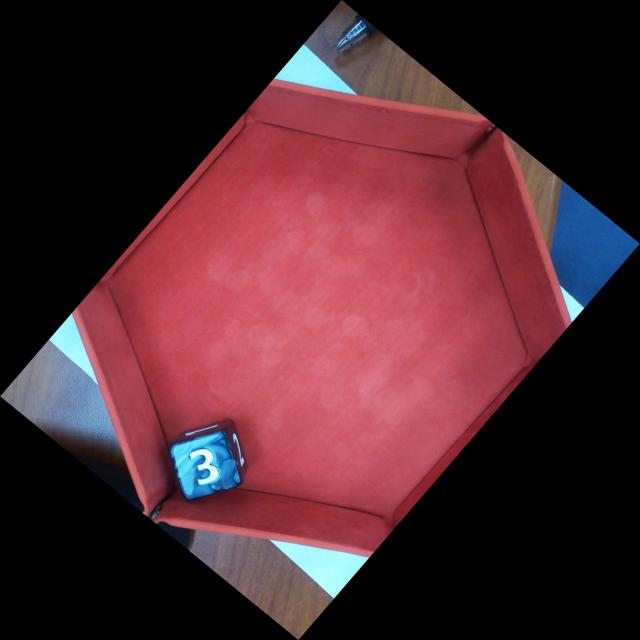dice: (167, 428, 243, 502)
